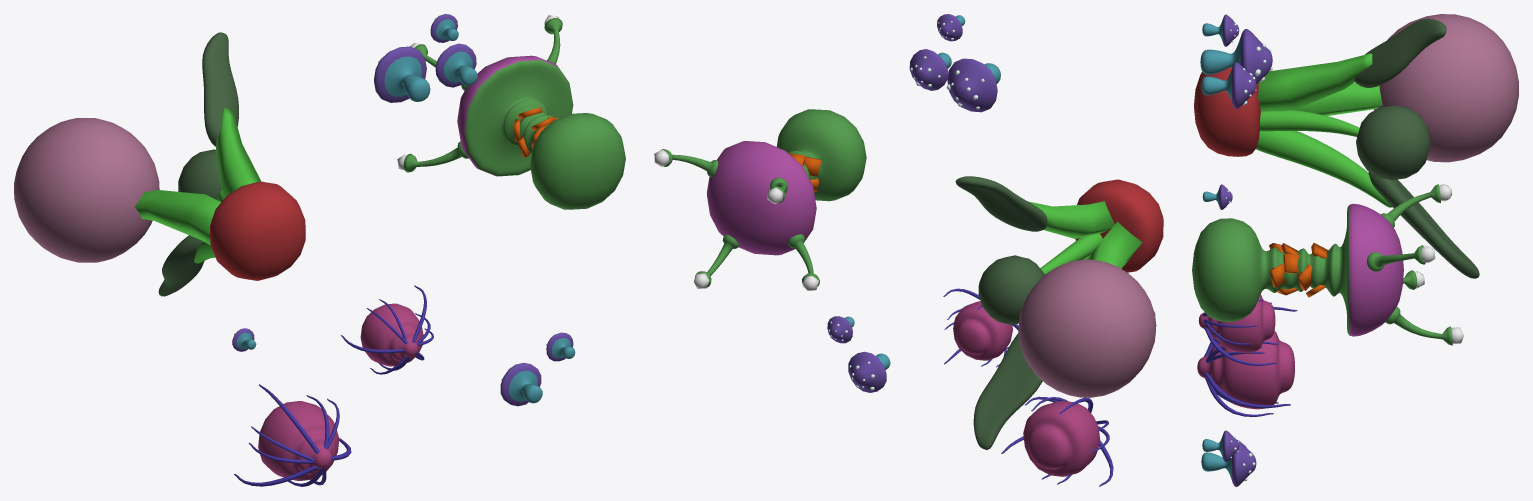
The model's file is Building_Plants.fbx.
The picture shows the model from 3 angles, left to right: view 1: azimuth 30°, elevation 25°; view 2: azimuth 150°, elevation 25°; view 3: azimuth 270°, elevation 25°; orthographic projection. The views are drawn at different scales.
Parts seen in each view (by area): view 1: Building_Plants; view 2: Building_Plants; view 3: Building_Plants.
Part boxes in pixels (x1,y1,x2,y2): Building_Plants: (14, 14, 625, 486); Building_Plants: (654, 14, 1163, 486); Building_Plants: (1192, 14, 1518, 486).
Bounding box in the file's own units: 1.58 × 1.28 × 0.8229.
